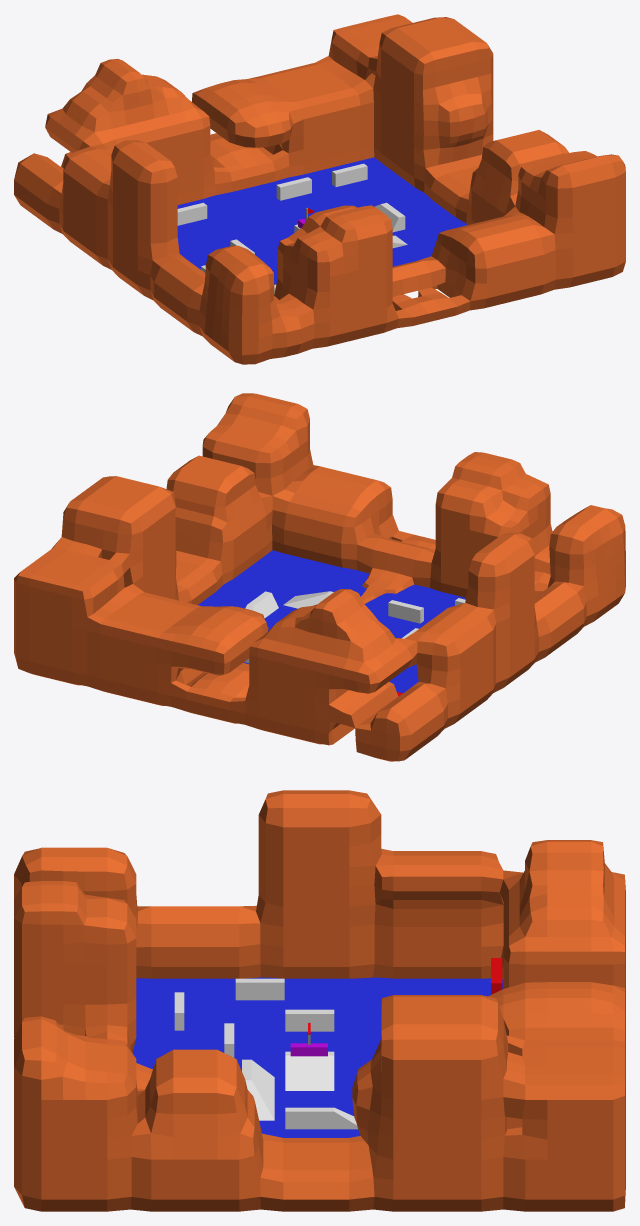
Rendered from arena_level1.glb.
The picture shows the model from 3 angles, top to bottom: view 1: azimuth 30°, elevation 25°; view 2: azimuth 150°, elevation 25°; view 3: azimuth 270°, elevation 25°; orthographic projection. The views are drawn at different scales.
Visible parts, largest first — view 1: LEVEL, GROUND, Wall.001, Wall, Wall.002; view 2: LEVEL, GROUND, Wall.007, Wall.005; view 3: LEVEL, GROUND, Wall.004, Wall.005, Wall.006, Wall.008, Wall.003.
Boxes of the visible parts, box(x1,y1,x2,y2) form: LEVEL: box(14, 14, 625, 364); GROUND: box(177, 157, 467, 284); Wall.001: box(276, 177, 311, 200); Wall: box(332, 163, 367, 186); Wall.002: box(177, 202, 207, 225); LEVEL: box(14, 393, 625, 761); GROUND: box(198, 550, 465, 692); Wall.007: box(388, 600, 423, 623); Wall.005: box(245, 591, 278, 618); LEVEL: box(14, 790, 625, 1211); GROUND: box(132, 977, 503, 1137); Wall.004: box(285, 1051, 334, 1090); Wall.005: box(285, 1107, 357, 1129); Wall.006: box(242, 1059, 274, 1120); Wall.008: box(235, 978, 284, 1000); Wall.003: box(285, 1009, 334, 1031).
Bounding box in the file's own units: 125 × 41.61 × 125.
